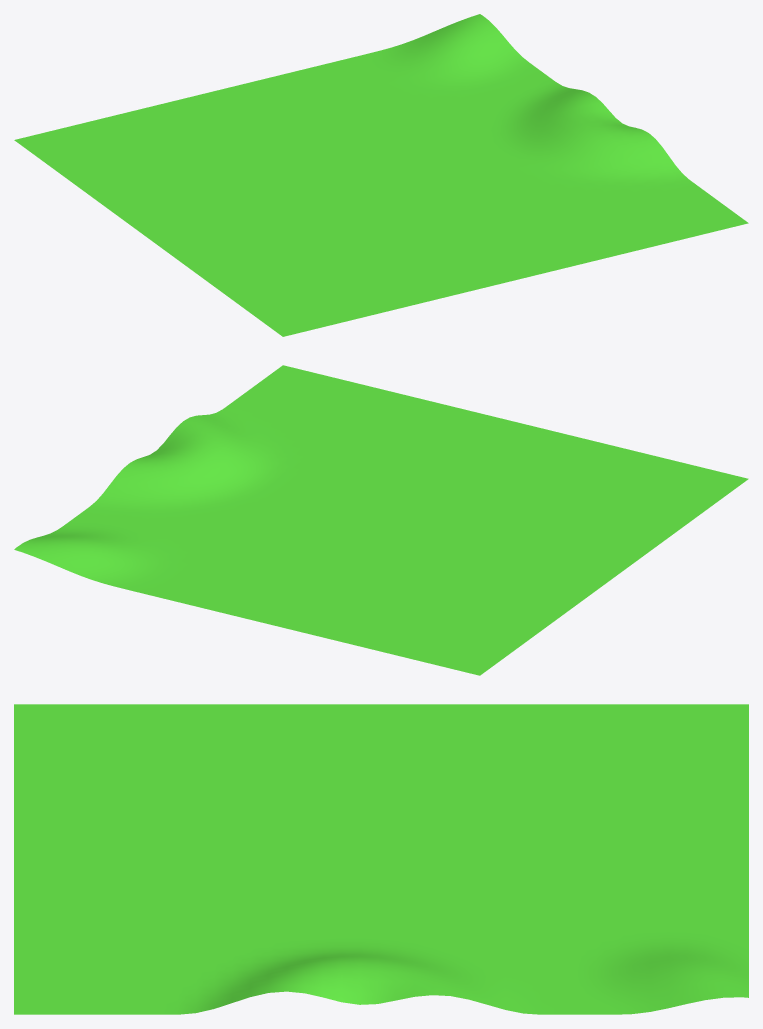
The model's file is tile_100_0.glb.
The picture shows the model from 3 angles, top to bottom: view 1: azimuth 30°, elevation 25°; view 2: azimuth 150°, elevation 25°; view 3: azimuth 270°, elevation 25°; orthographic projection. The views are drawn at different scales.
Parts seen in each view (by area): view 1: tile_100_0; view 2: tile_100_0; view 3: tile_100_0.
Part boxes in pixels (x1,y1,x2,y2): tile_100_0: (14, 14, 748, 336); tile_100_0: (14, 365, 748, 675); tile_100_0: (14, 704, 748, 1014).
Size of the model in its own units: 100 by 3.54 by 100.
